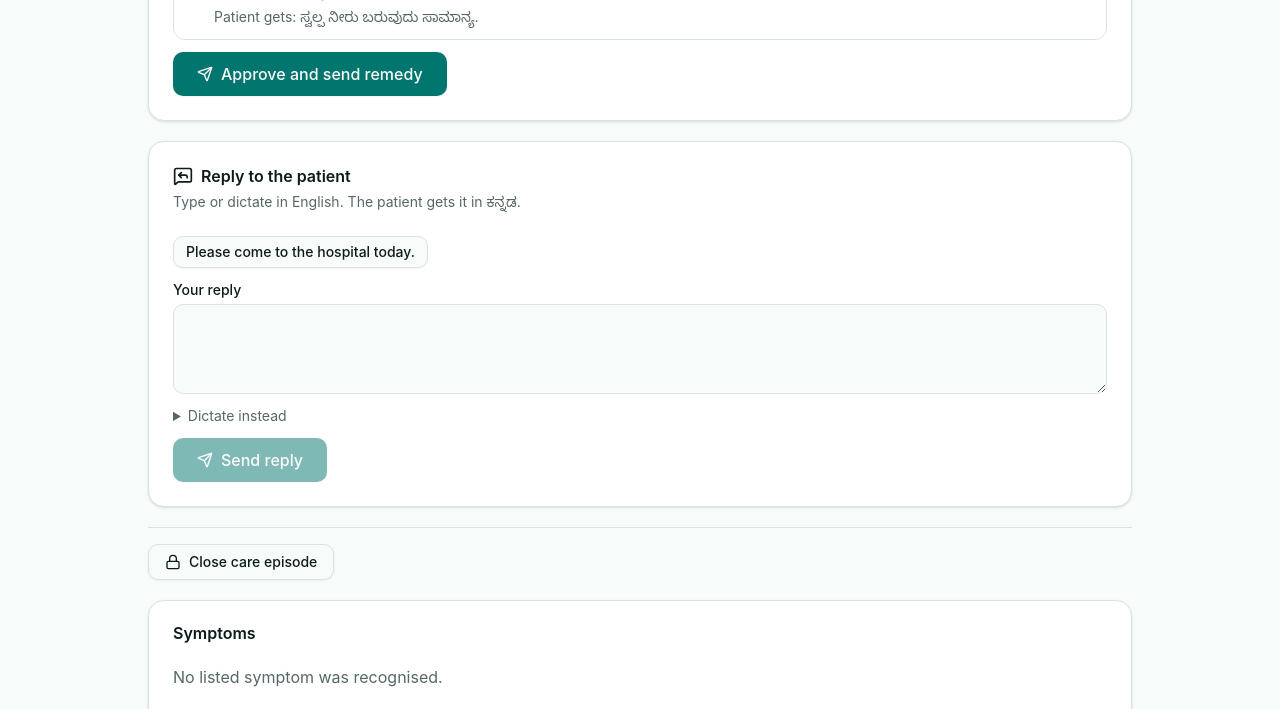
it: free text the demo cannot translate warns that it goes in English
The image size is (1280, 709).
(page scrolled)
Type "Thursday at 10 is fine" into the text box labelled "Your reply" at (640, 349), box x1=173 y1=304 x2=1107 y2=394
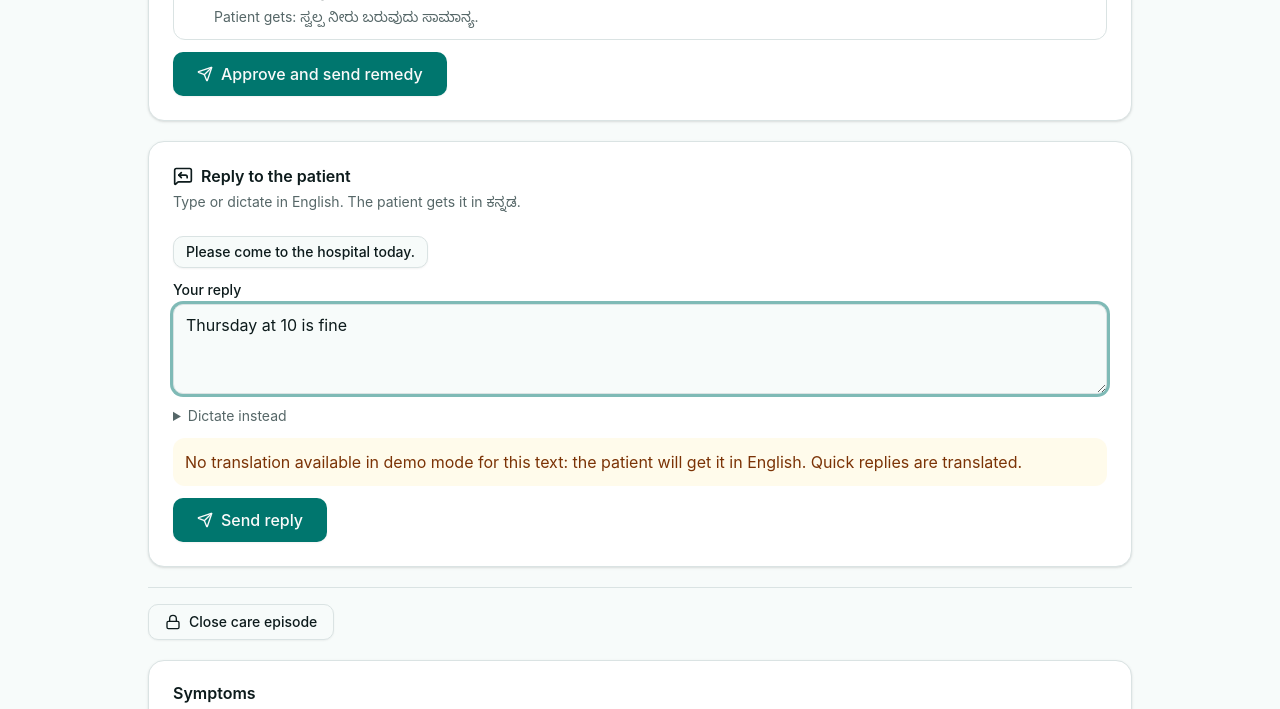
Check: the text "the patient will get it in English" is shown, box x1=185 y1=452 x2=1022 y2=472
